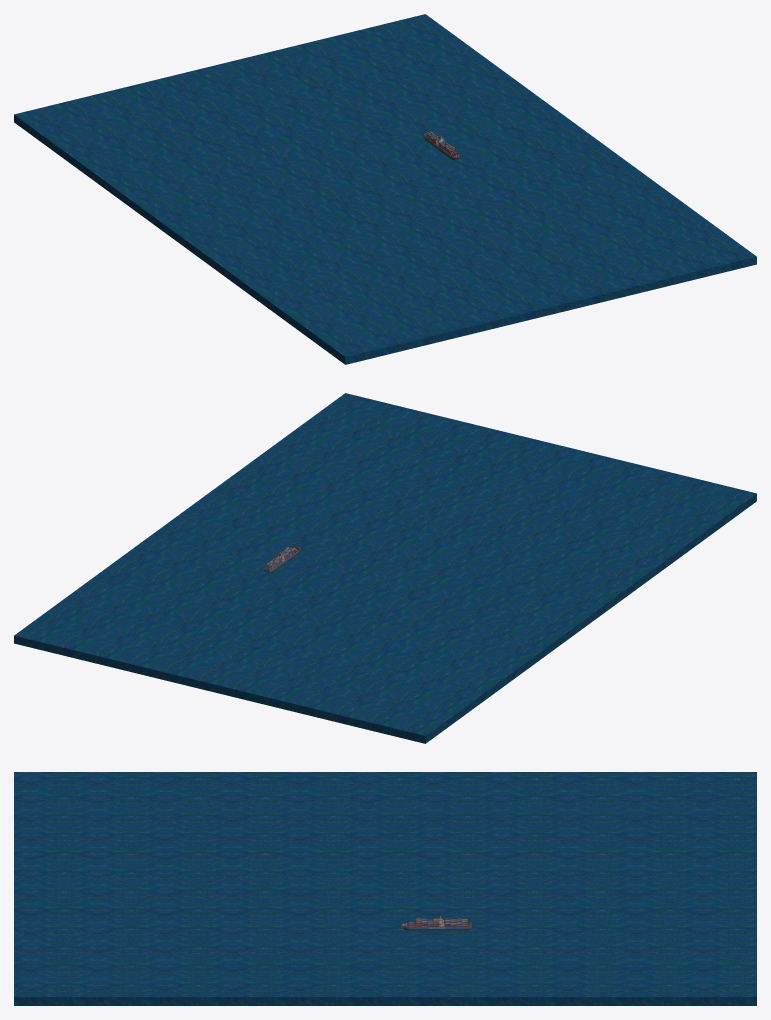
The model's file is Dynamic.glb.
3 views of the same model, one above another, from view 1: azimuth 30°, elevation 25°; view 2: azimuth 150°, elevation 25°; view 3: azimuth 270°, elevation 25° (orthographic). The views are drawn at different scales.
Parts seen in each view (by area): view 1: watervolume; view 2: watervolume; view 3: watervolume, body2.
Boxes of the visible parts, x1,y1,x2,y2 form: watervolume: [14, 14, 756, 364]; watervolume: [14, 393, 756, 743]; watervolume: [14, 772, 756, 1005]; body2: [401, 916, 471, 930].
Bounding box in the file's own units: 396 × 17.63 × 552.
155 materials, 153 textured.
